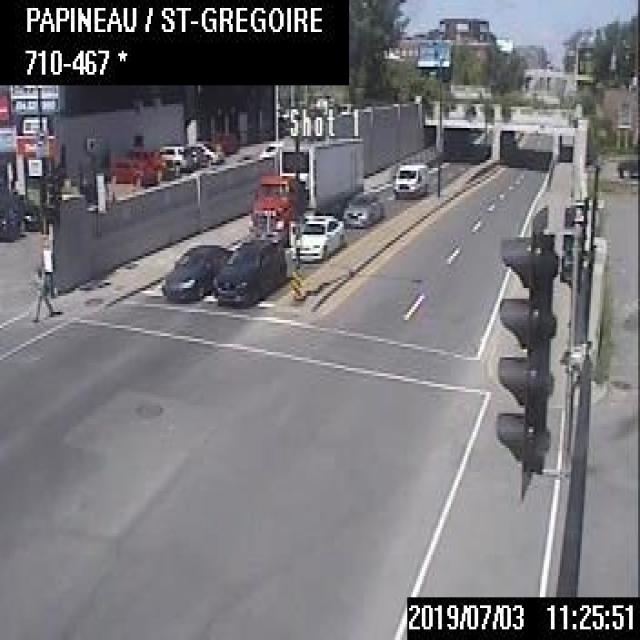pedestrian: (31, 264, 54, 323), (38, 233, 57, 298)
vehicle: (249, 132, 364, 239), (212, 230, 286, 308), (160, 233, 231, 307), (288, 212, 347, 263), (108, 152, 159, 186), (341, 188, 383, 225), (391, 160, 427, 195), (184, 137, 223, 169), (156, 141, 194, 171), (614, 152, 638, 174)
